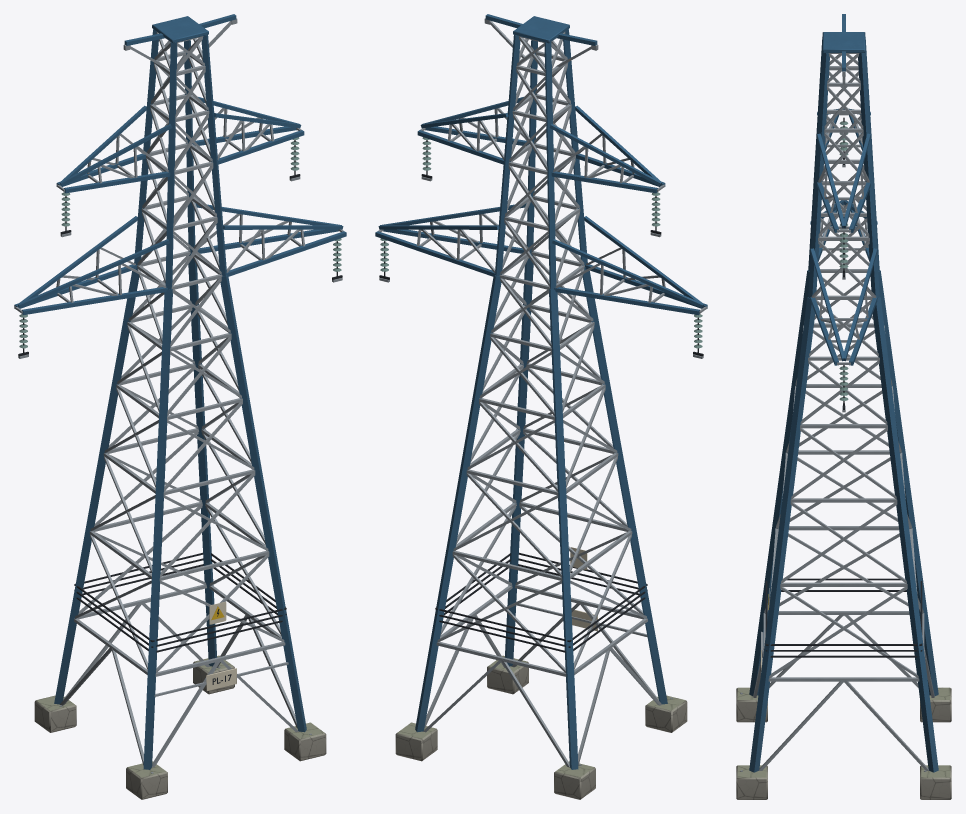
File: power_pylon.glb
3 renders of one model, left to right at view 1: azimuth 30°, elevation 25°; view 2: azimuth 150°, elevation 25°; view 3: azimuth 270°, elevation 25°, orthographic.
Parts seen in each view (by area): view 1: power_pylon; view 2: power_pylon; view 3: power_pylon.
Boxes of the visible parts, bbox=[...] form: power_pylon: bbox=[14, 14, 346, 799]; power_pylon: bbox=[375, 14, 707, 799]; power_pylon: bbox=[736, 14, 951, 799].
Bounding box in the file's own units: 10.66 × 22.32 × 6.1.
9 materials, 9 textured.
